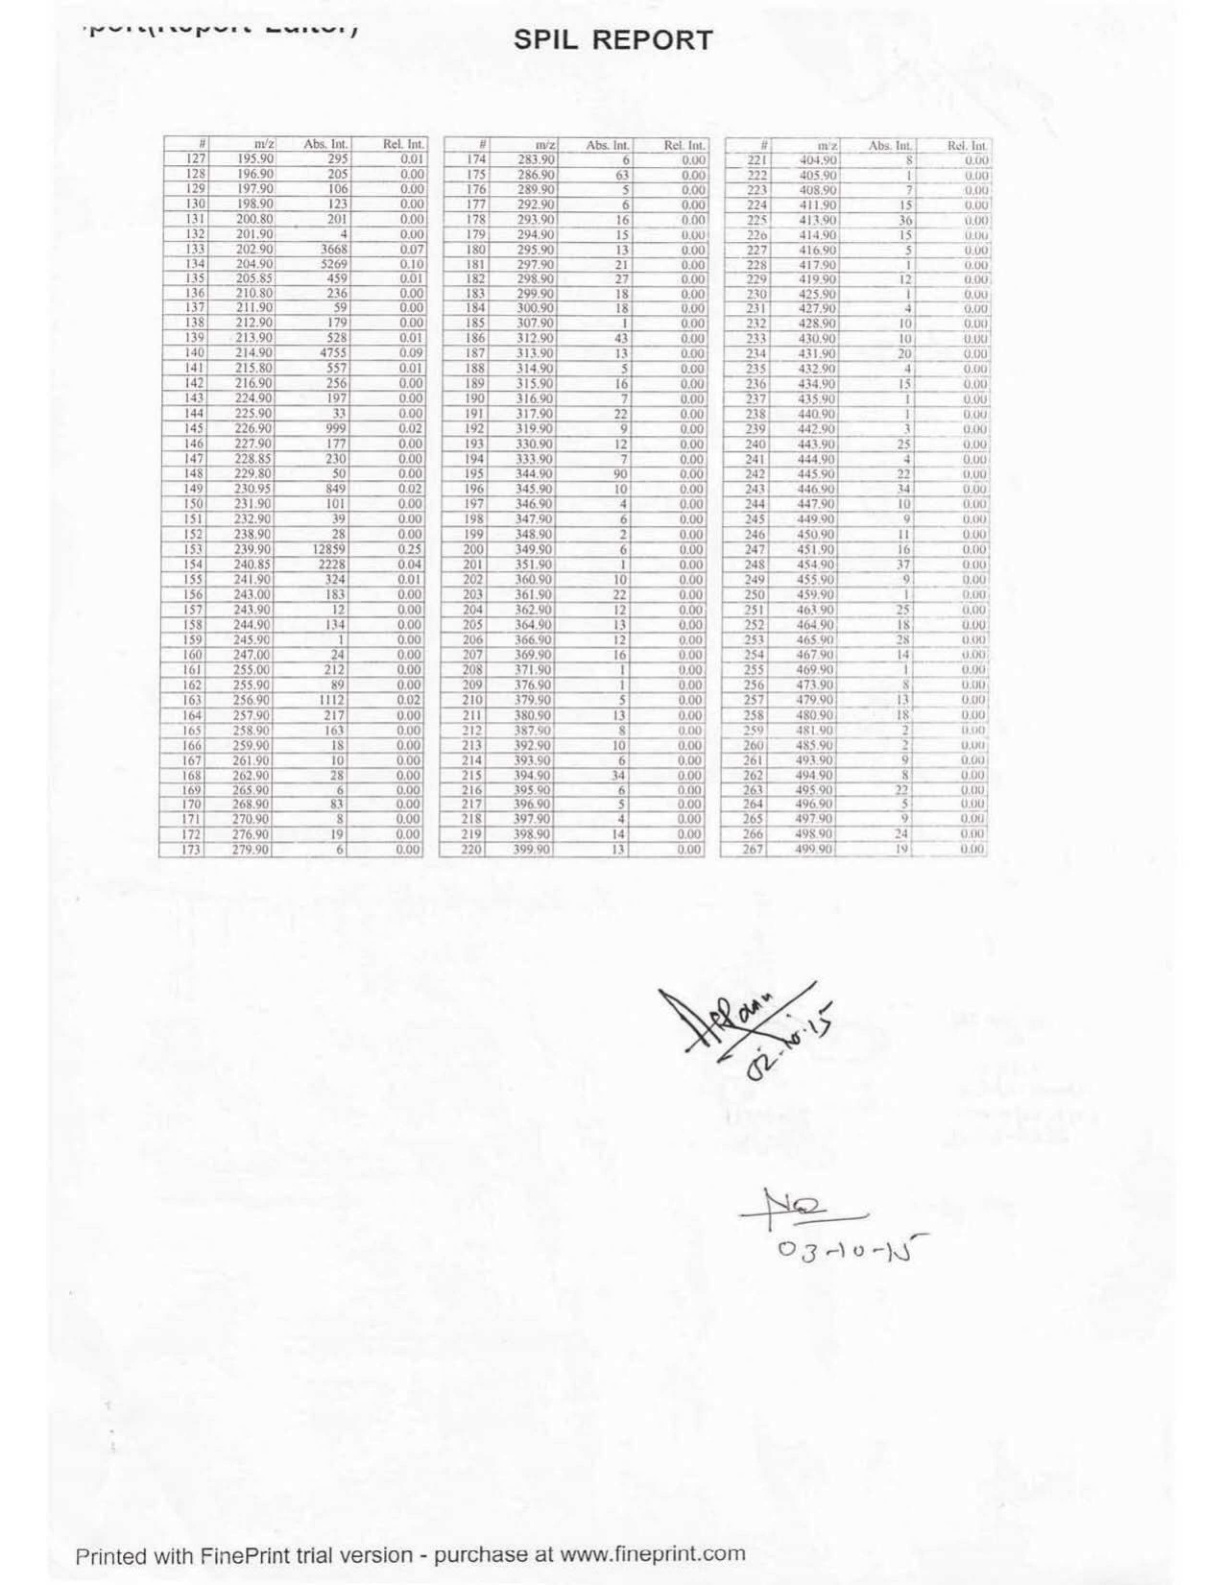full_lined: (717, 135, 994, 860), (436, 132, 711, 860), (156, 132, 429, 861)
